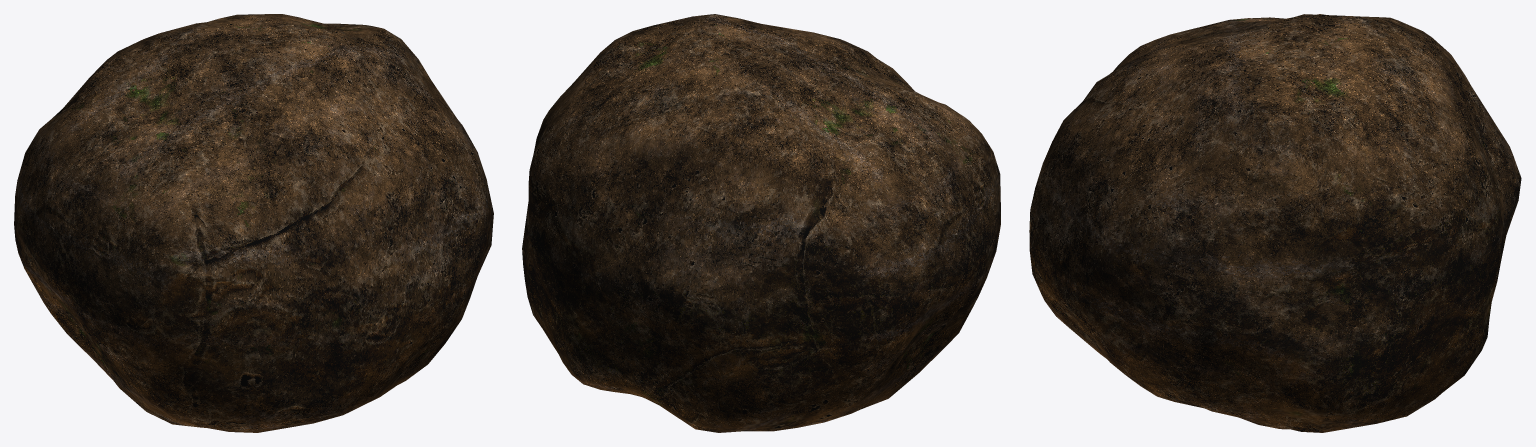
The model's file is SM_TI_Rock_5.gltf.
3 renders of one model, left to right at view 1: azimuth 30°, elevation 25°; view 2: azimuth 150°, elevation 25°; view 3: azimuth 270°, elevation 25°, orthographic. The views are drawn at different scales.
Parts seen in each view (by area): view 1: SM_TI_Rock_5; view 2: SM_TI_Rock_5; view 3: SM_TI_Rock_5.
Part boxes in pixels (x1=…): SM_TI_Rock_5: x1=14, y1=14, x2=493, y2=432; SM_TI_Rock_5: x1=522, y1=14, x2=1000, y2=432; SM_TI_Rock_5: x1=1029, y1=14, x2=1521, y2=432.
Bounding box in the file's own units: 15.35 × 12.72 × 15.1.
1 material, 1 textured.
